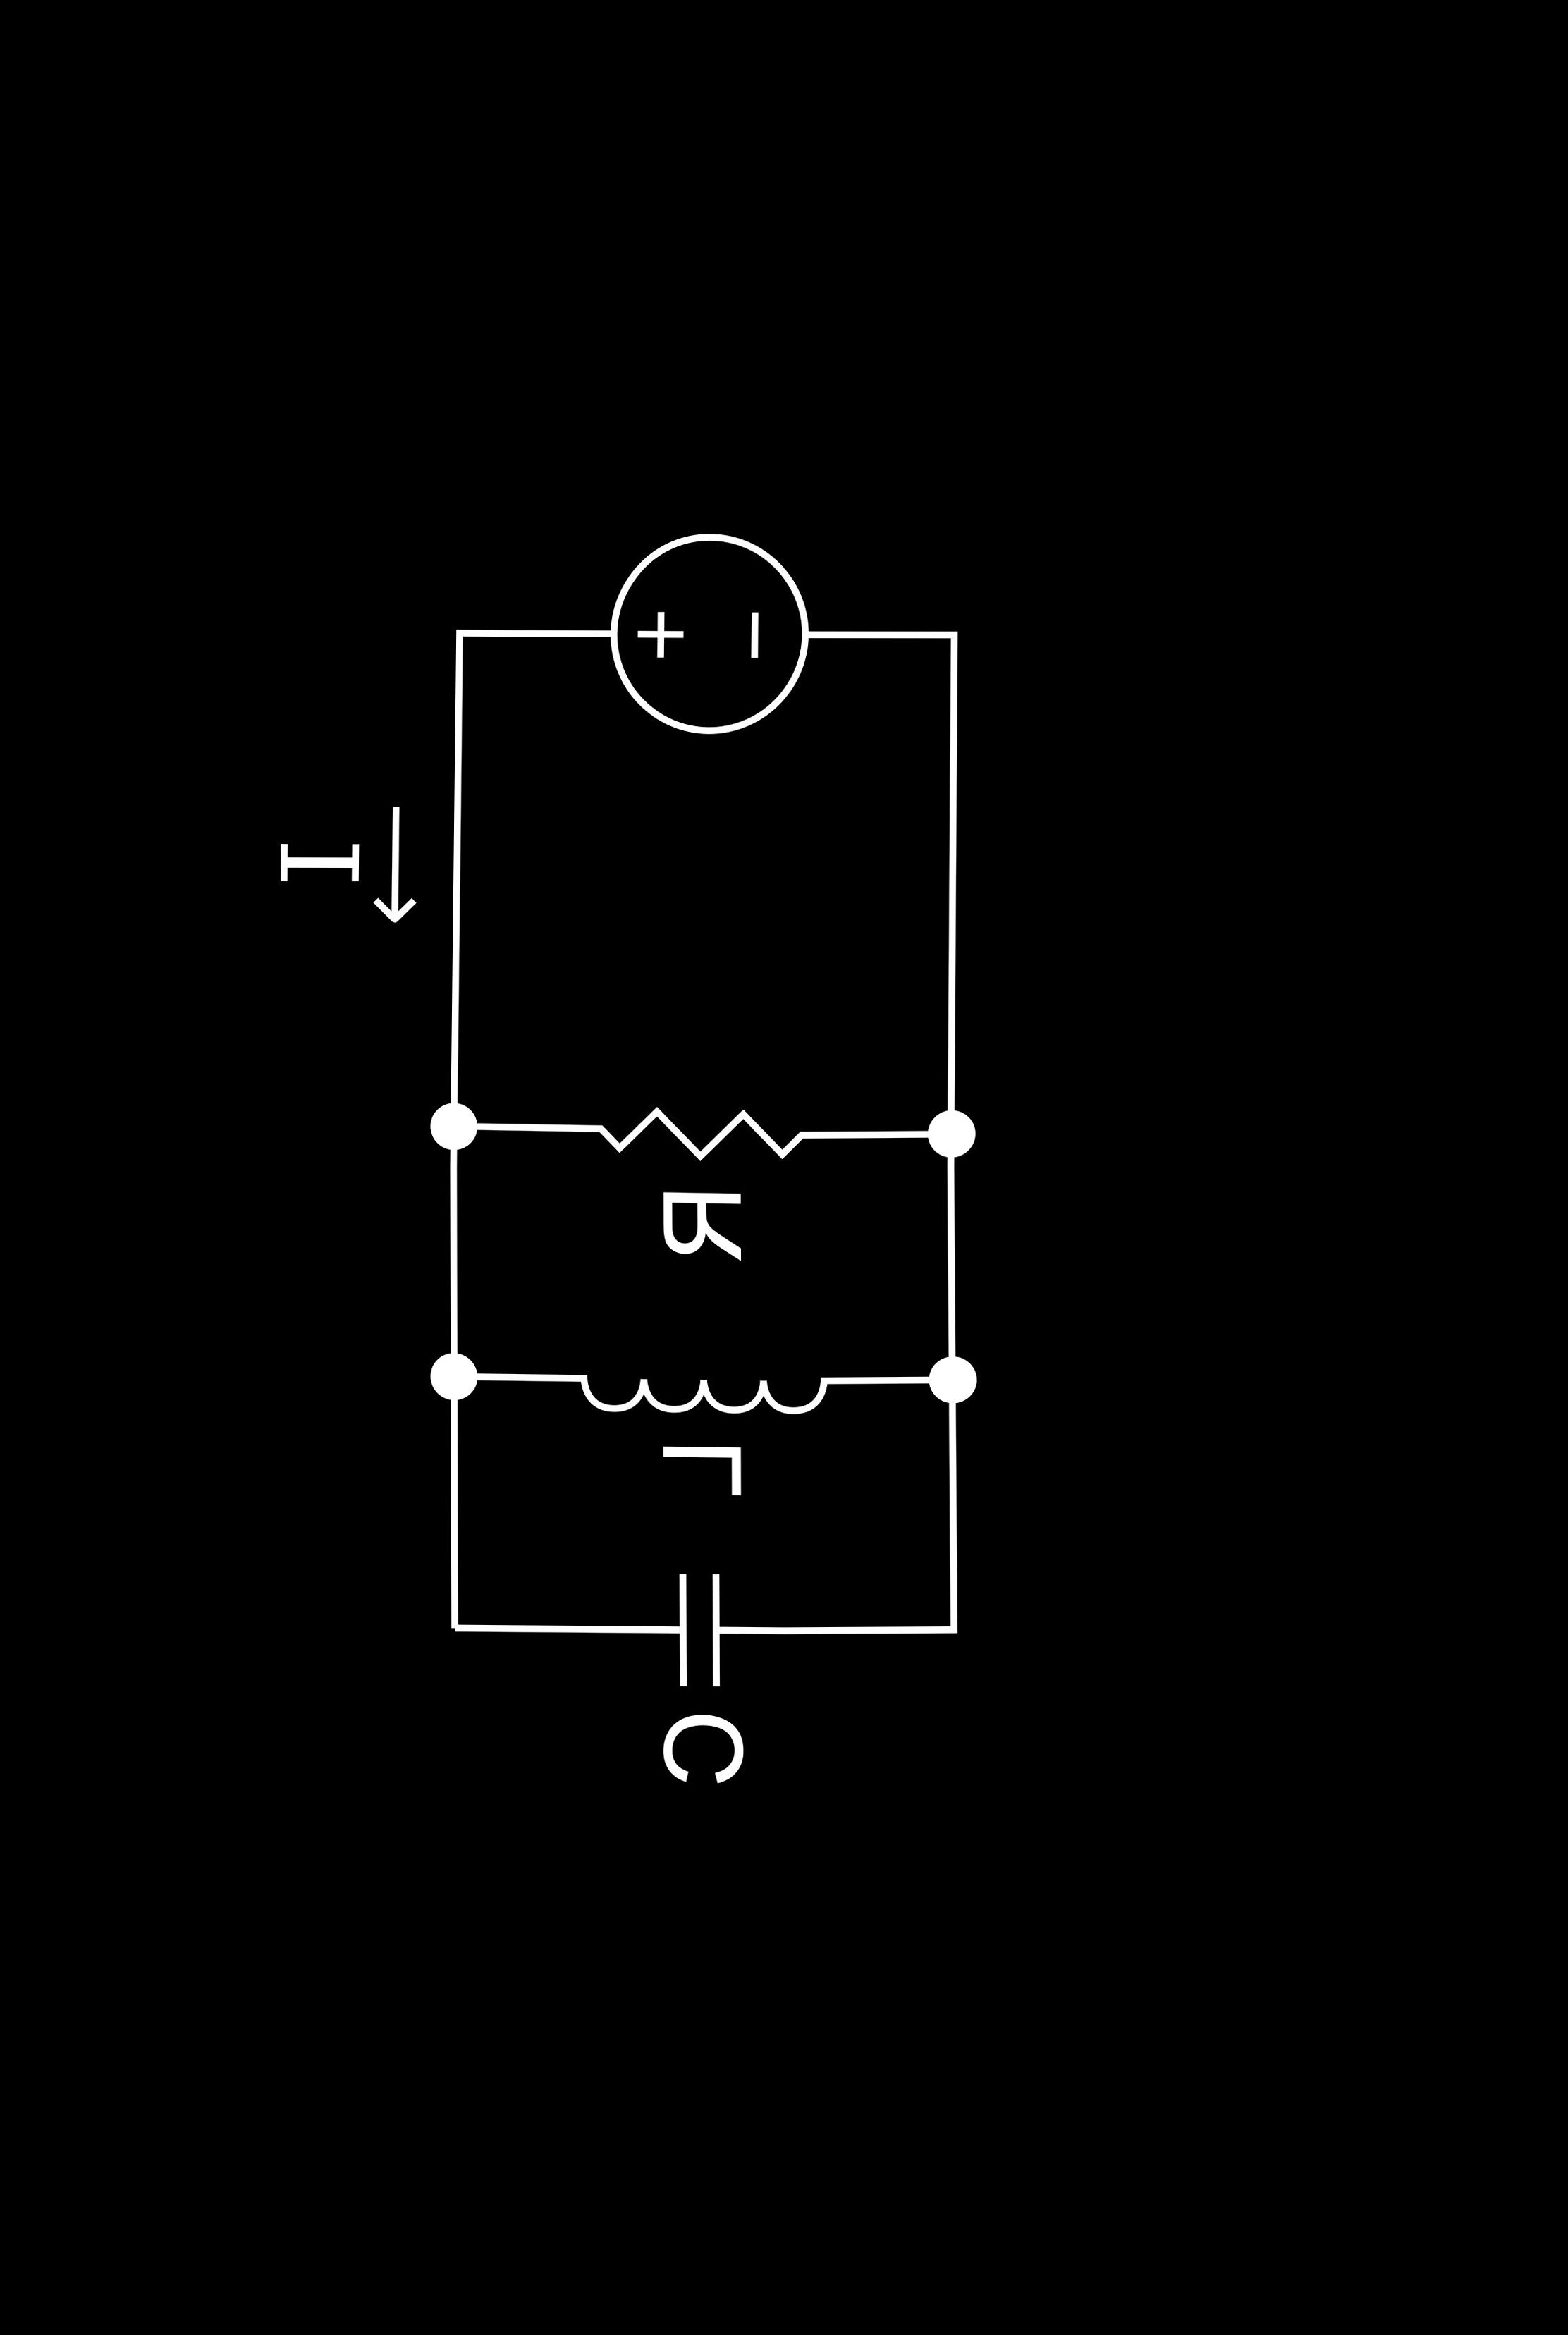Battery: (511, 451, 878, 841)
